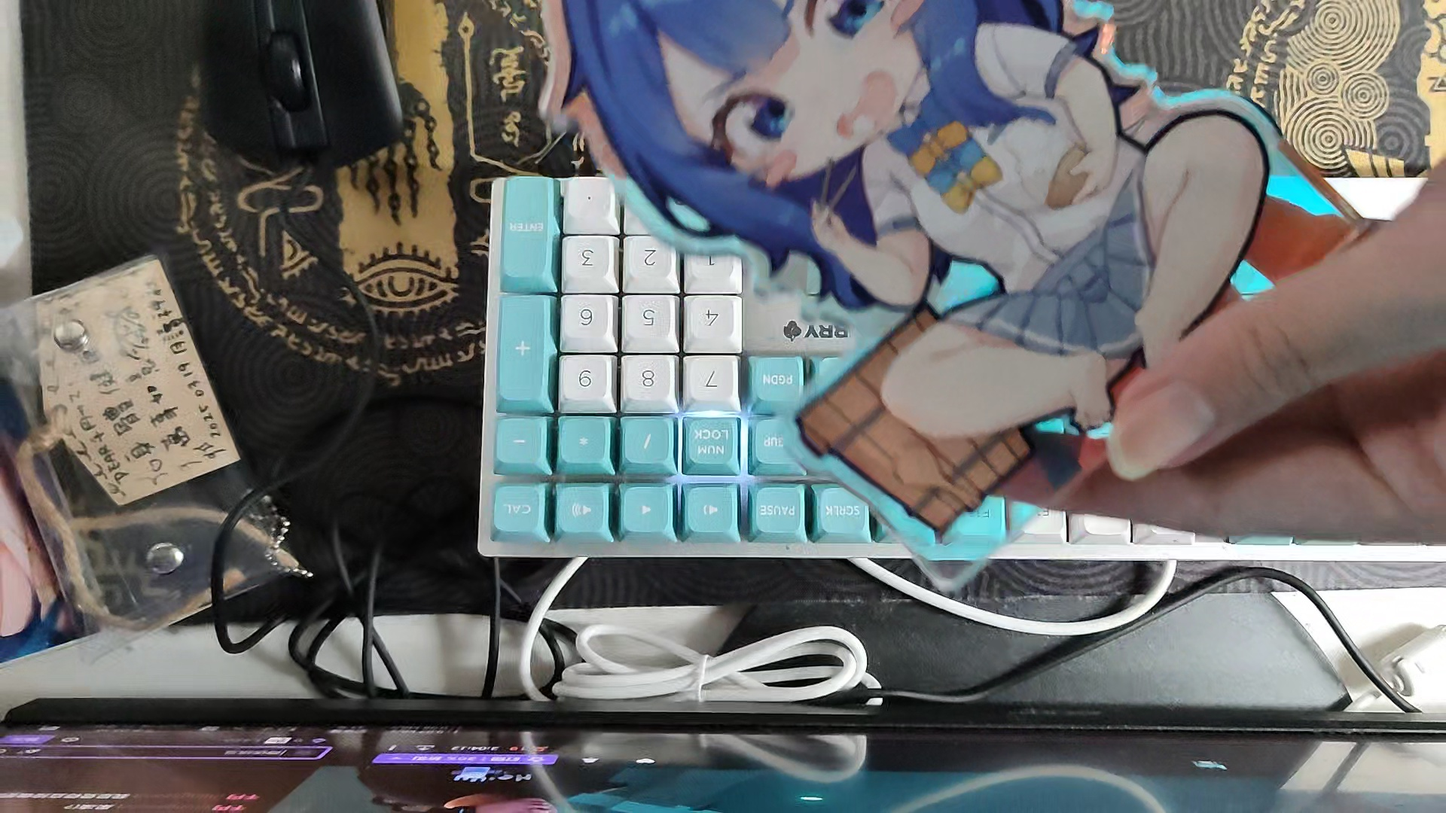Yanami-anna: (536, 0, 1371, 591)
